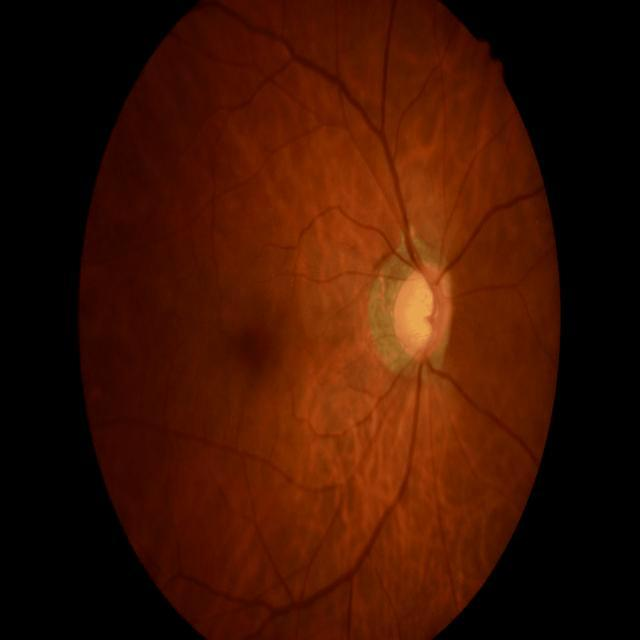cup: (393, 270, 437, 351)
disk: (392, 263, 456, 358)
